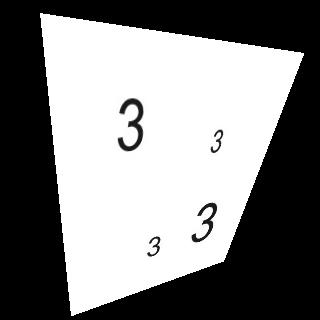three: (102, 96, 159, 153), (184, 199, 229, 244), (202, 126, 230, 155), (140, 234, 165, 259)
